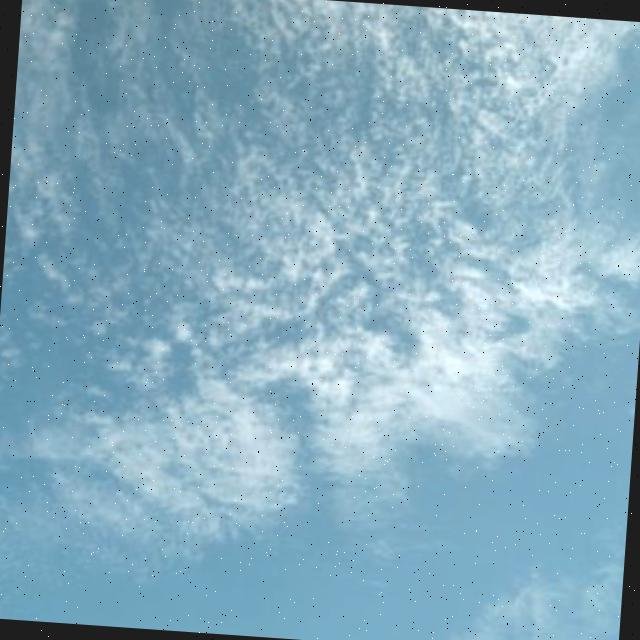Cc: (1, 24, 640, 556)
